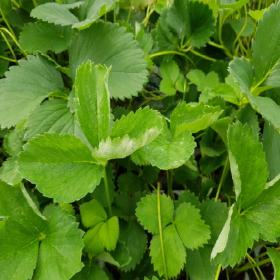Powdery Mildew Leaf: (92, 106, 165, 162), (72, 59, 113, 149), (145, 127, 197, 171), (170, 101, 225, 135)
